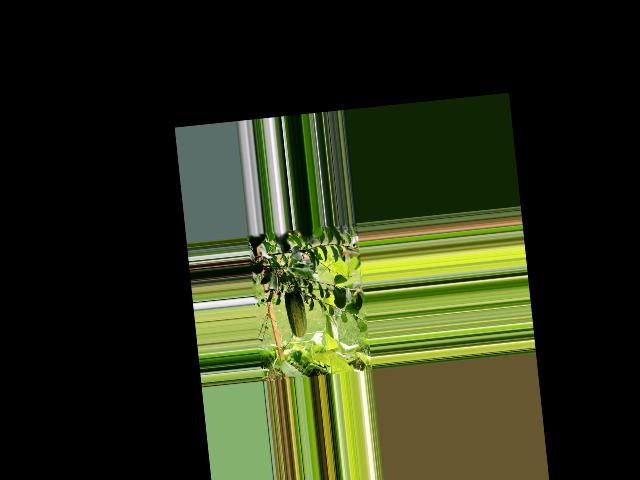cucumber: (282, 283, 307, 338)
